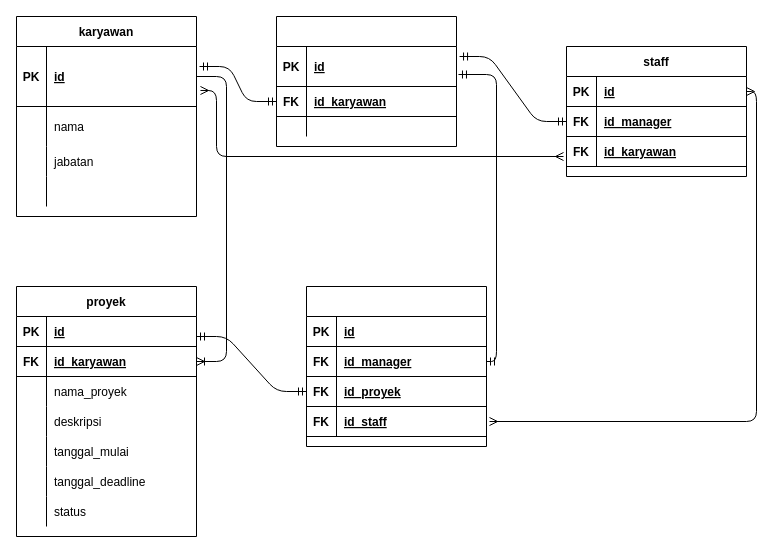
Image size: 773x553. Some labels were removed from this diagram. Here are the shapes that lost their labels. From the top down, the box of each, then its label:
(276, 16, 456, 146): manager
(306, 286, 486, 446): pengerjaan_proyek
